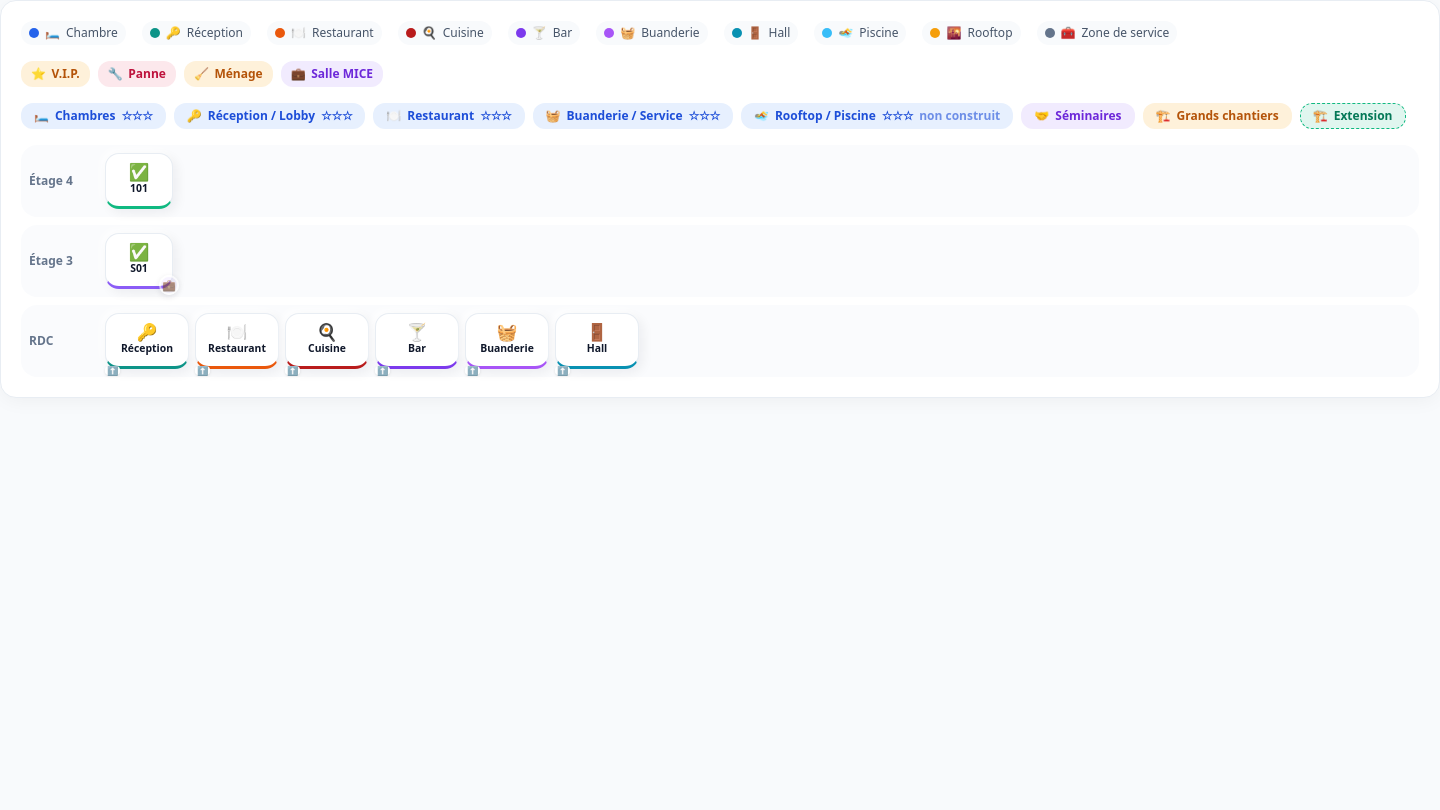
it: SchematicHotelView / seminars and events › links to the events page, and closes
Click the button with test id "schematic-mice" at (1078, 116), box 1021,103 -> 1134,129
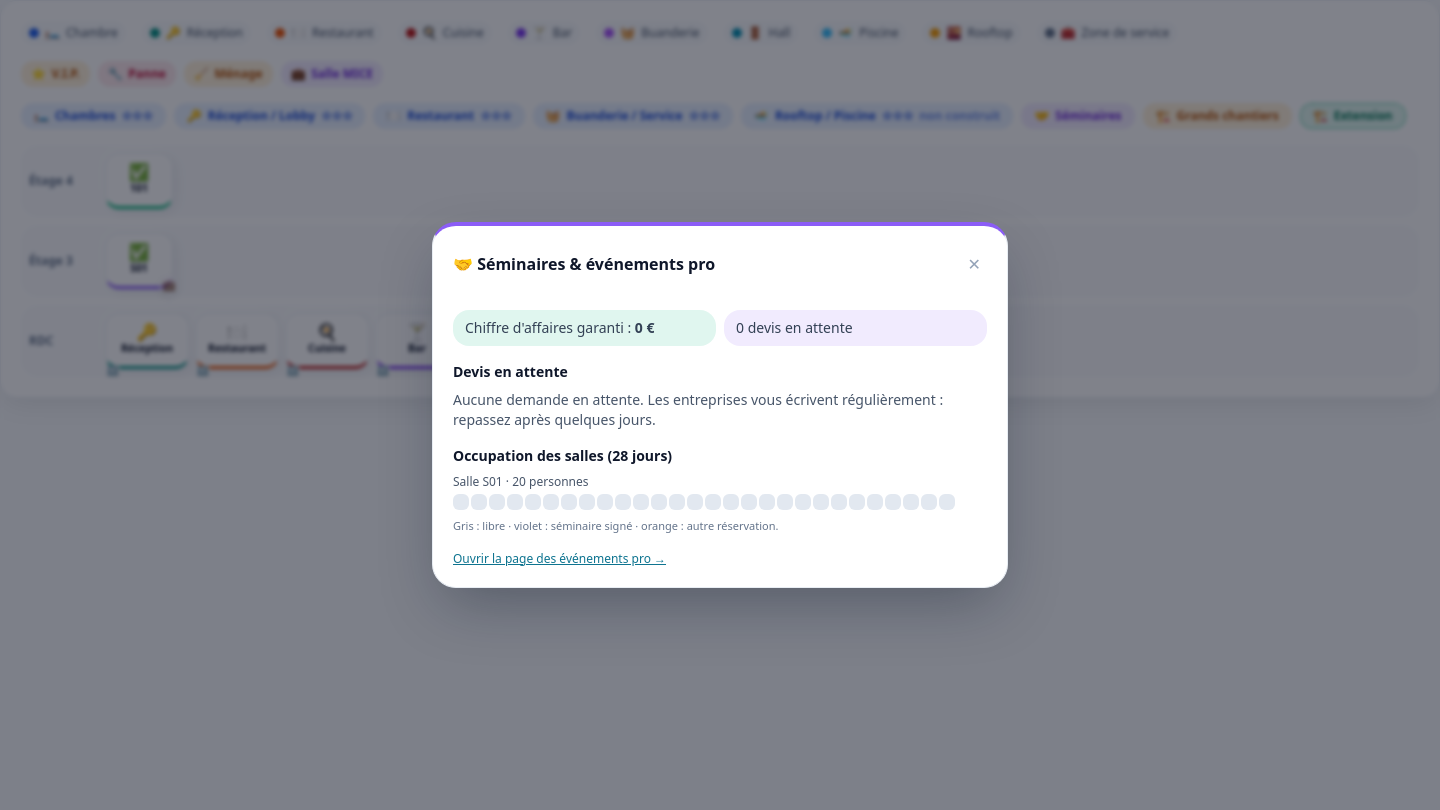
Click the button named "fermer" at (974, 264), box 962,246 -> 987,282
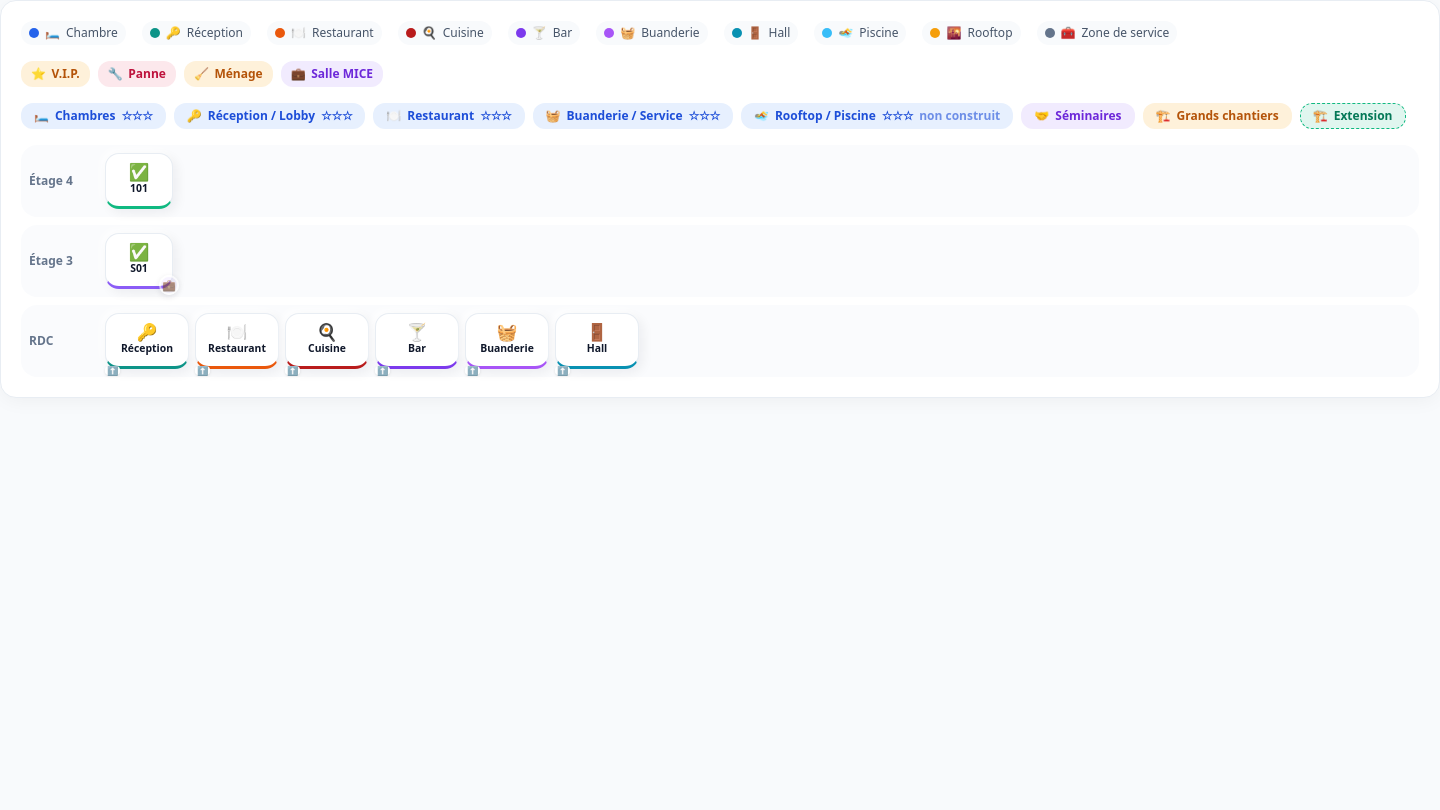
Check: the dialog is gone
